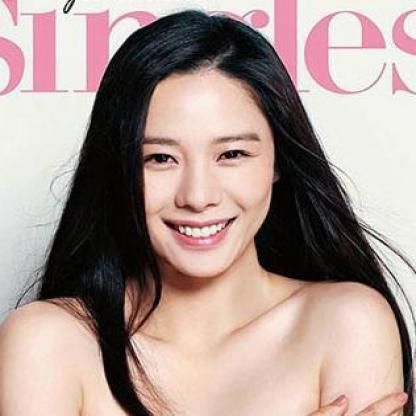long-hair: (50, 270, 324, 312)
